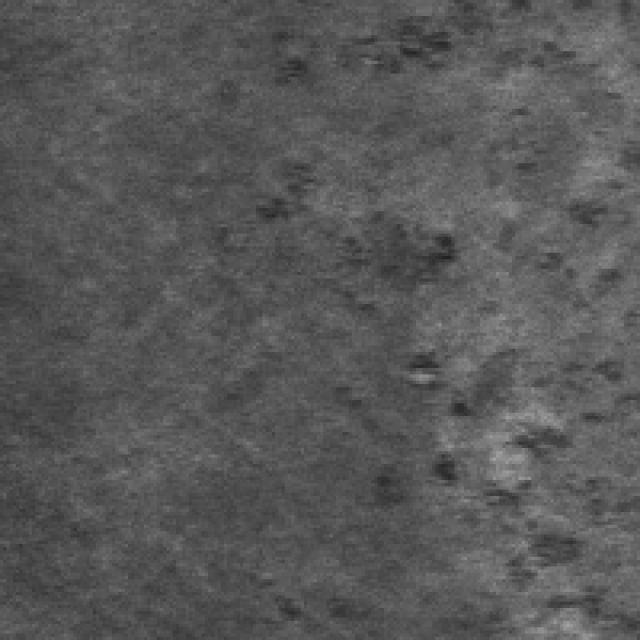rolled-in_scale: (412, 227, 634, 627), (253, 150, 454, 292), (268, 0, 595, 86)
